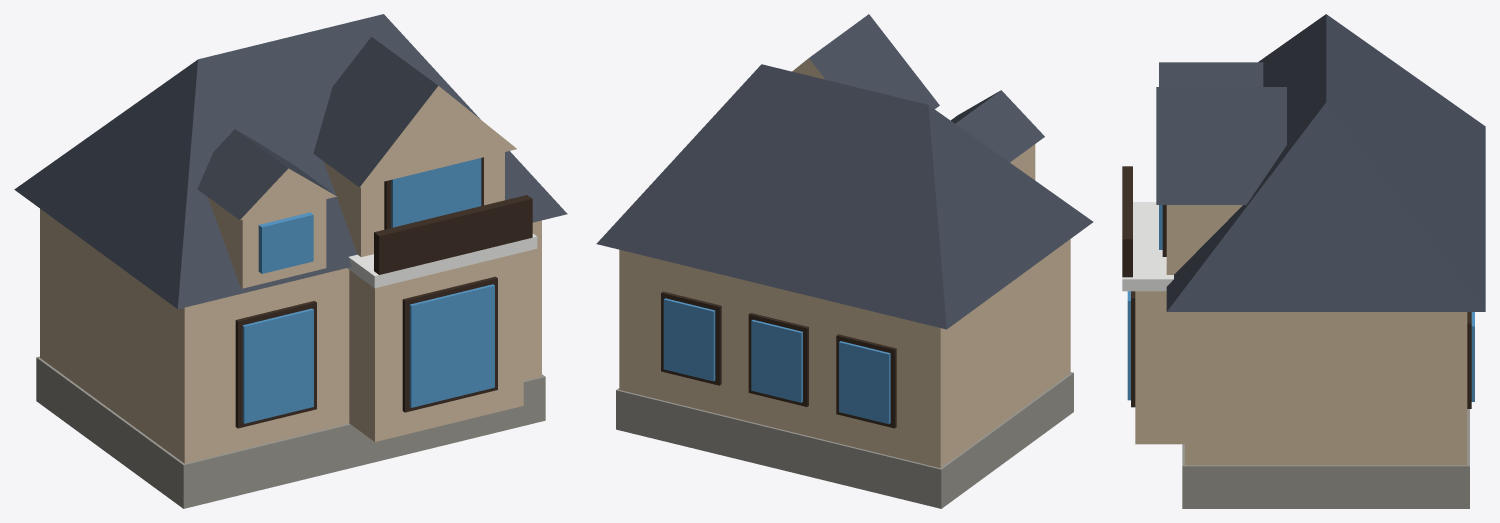
The model's file is 61_polish_bay_villa_1.obj.
3 renders of one model, left to right at view 1: azimuth 30°, elevation 25°; view 2: azimuth 150°, elevation 25°; view 3: azimuth 270°, elevation 25°, orthographic. The views are drawn at different scales.
Visible parts, largest first — view 1: 61_polish_bay_villa_1; view 2: 61_polish_bay_villa_1; view 3: 61_polish_bay_villa_1.
Part boxes in pixels (x1,y1,x2,y2): 61_polish_bay_villa_1: (14, 14, 567, 508); 61_polish_bay_villa_1: (596, 14, 1093, 508); 61_polish_bay_villa_1: (1122, 14, 1485, 508).
Bounding box in the file's own units: 1.68 × 1.54 × 1.39.
